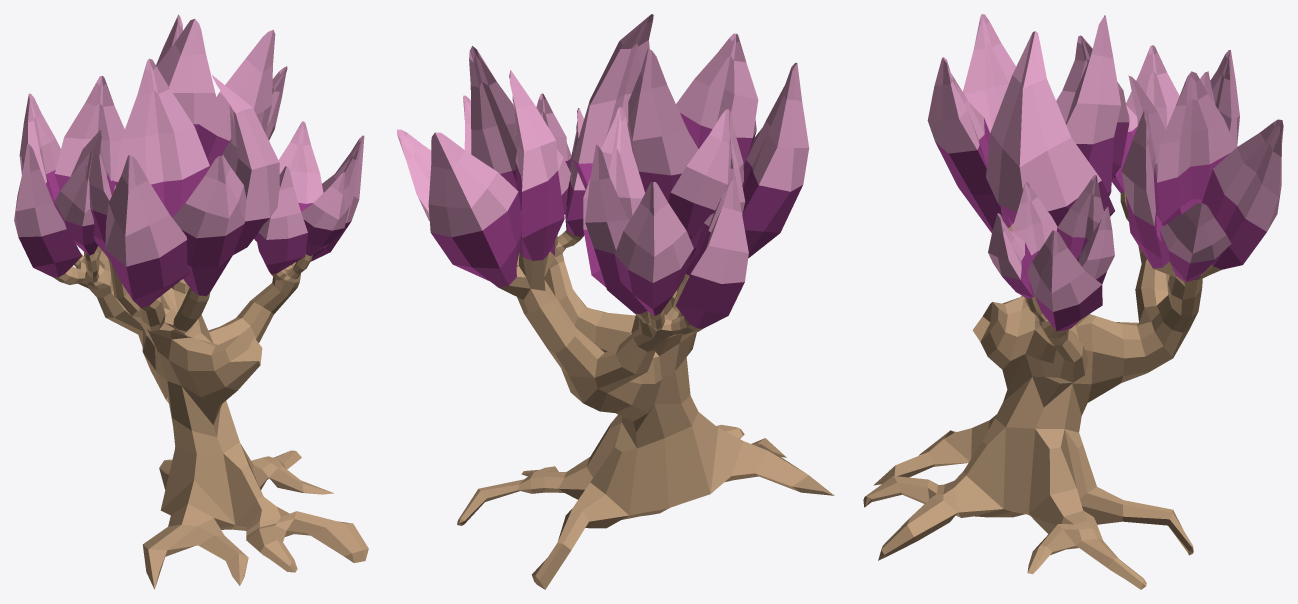
The model's file is Tree_14_Var_04.fbx.
The picture shows the model from 3 angles, left to right: view 1: azimuth 30°, elevation 25°; view 2: azimuth 150°, elevation 25°; view 3: azimuth 270°, elevation 25°; orthographic projection. The views are drawn at different scales.
Visible parts, largest first — view 1: Tree_14_Var_04; view 2: Tree_14_Var_04; view 3: Tree_14_Var_04.
Part boxes in pixels (x1=…): Tree_14_Var_04: x1=14, y1=14, x2=368, y2=589; Tree_14_Var_04: x1=397, y1=14, x2=834, y2=589; Tree_14_Var_04: x1=863, y1=14, x2=1283, y2=589.
Size of the model in its own units: 6.14 by 8.25 by 5.52.
